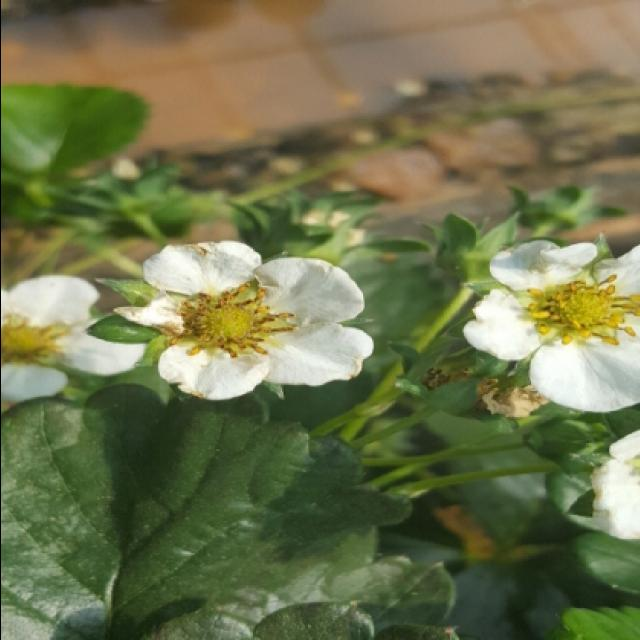Blossom Blight: (164, 274, 302, 364), (518, 270, 640, 351)
